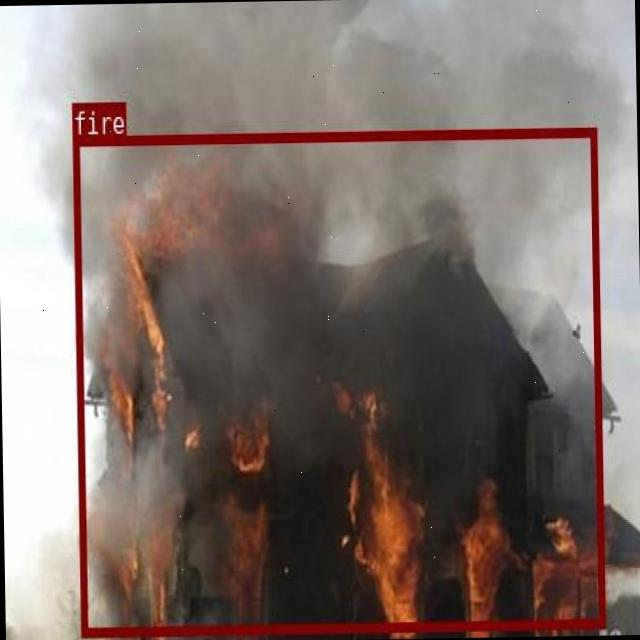fire: (71, 126, 604, 635)
